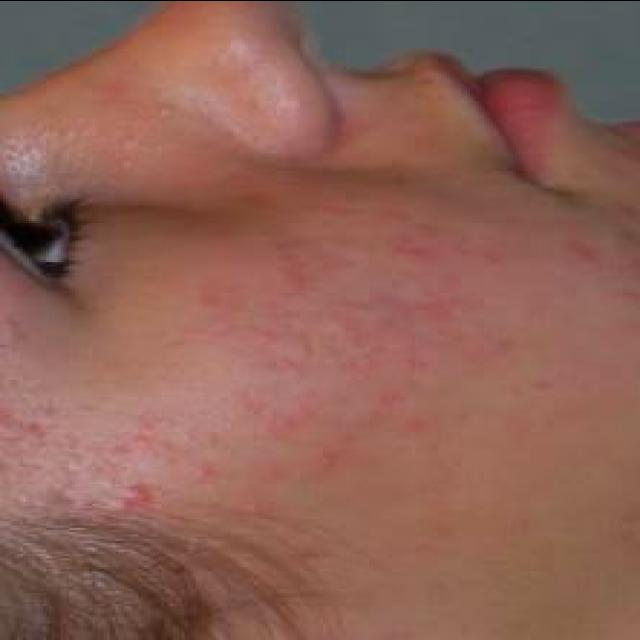Acne: (114, 482, 156, 506), (266, 409, 298, 431)
